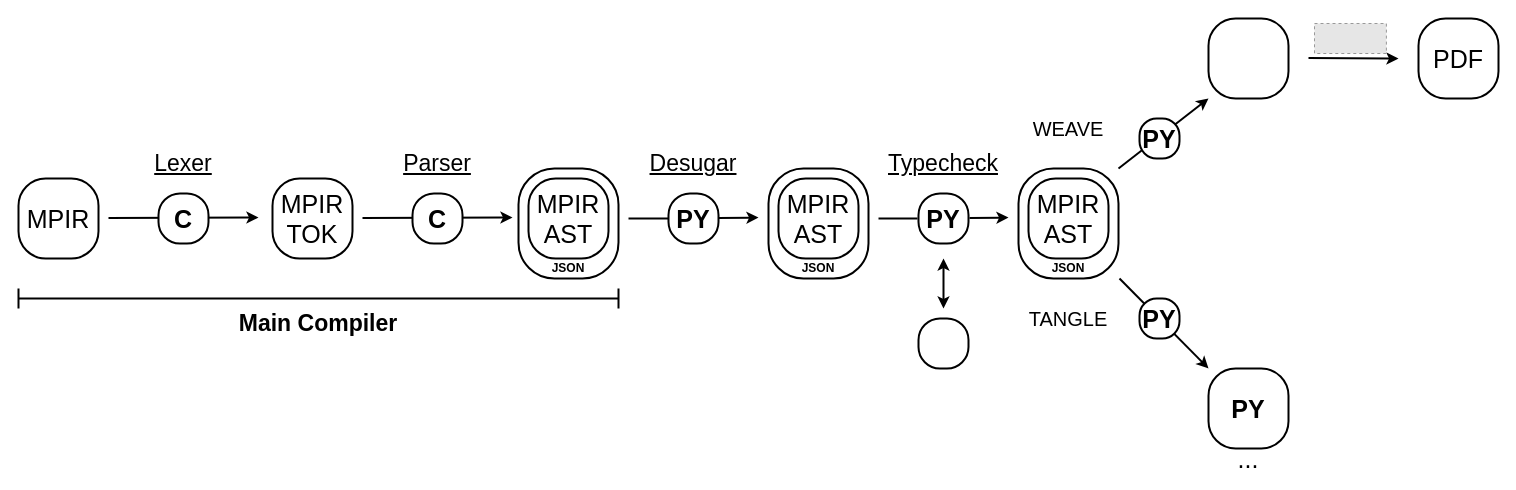
This 1516x490 diagram has some shape labels left out. Grey dashed boxes stand in for pictures. The box of each missing label's shape, as (x1, y1, x2, y2) in pixels:
TEX: (1207, 17, 1289, 99)
Z3: (917, 317, 969, 369)
